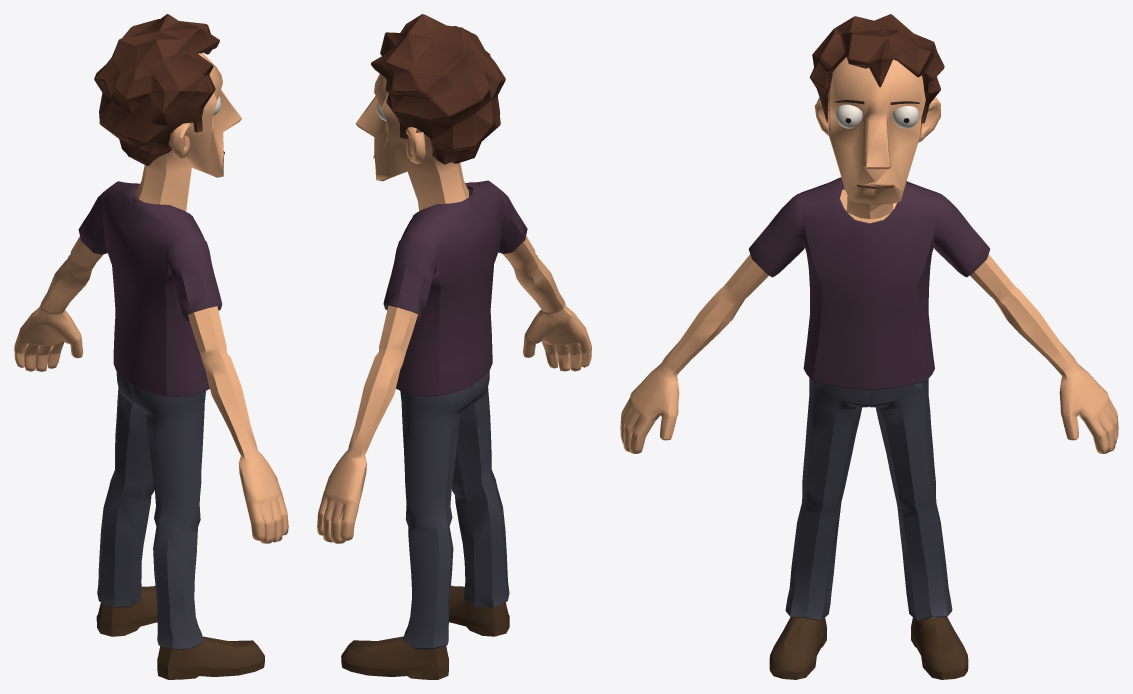
The model's file is character_base.glb.
3 views of the same model, side by side, from view 1: azimuth 30°, elevation 25°; view 2: azimuth 150°, elevation 25°; view 3: azimuth 270°, elevation 25° (orthographic).
Parts seen in each view (by area): view 1: pants, shirt, hair, arm_r, head, arm_l, shoe_r, shoe_l, ear_r; view 2: pants, shirt, hair, arm_l, arm_r, head, shoe_l, shoe_r, ear_l; view 3: shirt, pants, head, arm_l, arm_r, hair, shoe_l, shoe_r.
Boxes of the visible parts, box(x1,y1,x2,y2) form: pants: box(97, 372, 205, 649); shirt: box(78, 181, 222, 396); hair: box(94, 14, 219, 165); arm_r: box(188, 306, 288, 543); head: box(136, 53, 241, 211); arm_l: box(14, 236, 103, 371); shoe_r: box(157, 636, 264, 679); shoe_l: box(96, 586, 157, 636); ear_r: box(171, 123, 190, 158); pants: box(400, 371, 509, 649); shirt: box(383, 180, 527, 396); hair: box(371, 14, 505, 164); arm_l: box(317, 305, 417, 543); arm_r: box(502, 236, 591, 371); head: box(355, 74, 468, 211); shoe_l: box(341, 636, 448, 679); shoe_r: box(449, 585, 509, 636); ear_l: box(403, 127, 425, 163); shirt: box(748, 177, 990, 389); pants: box(785, 378, 952, 621); head: box(827, 57, 925, 219); arm_l: box(970, 254, 1118, 453); arm_r: box(620, 254, 768, 453); hair: box(809, 14, 944, 123); shoe_l: box(911, 617, 968, 679); shoe_r: box(769, 617, 826, 679).
Bounding box in the file's own units: 0.2241 × 0.9995 × 0.7144.
